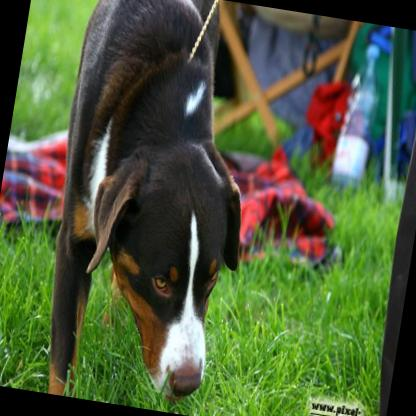Appenzeller: (22, 0, 280, 416)
